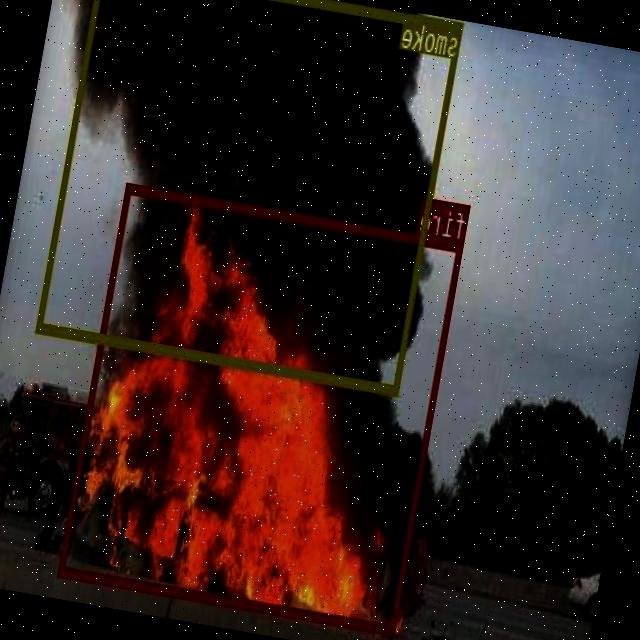fire: (59, 181, 466, 634)
smoke: (37, 0, 465, 393)
